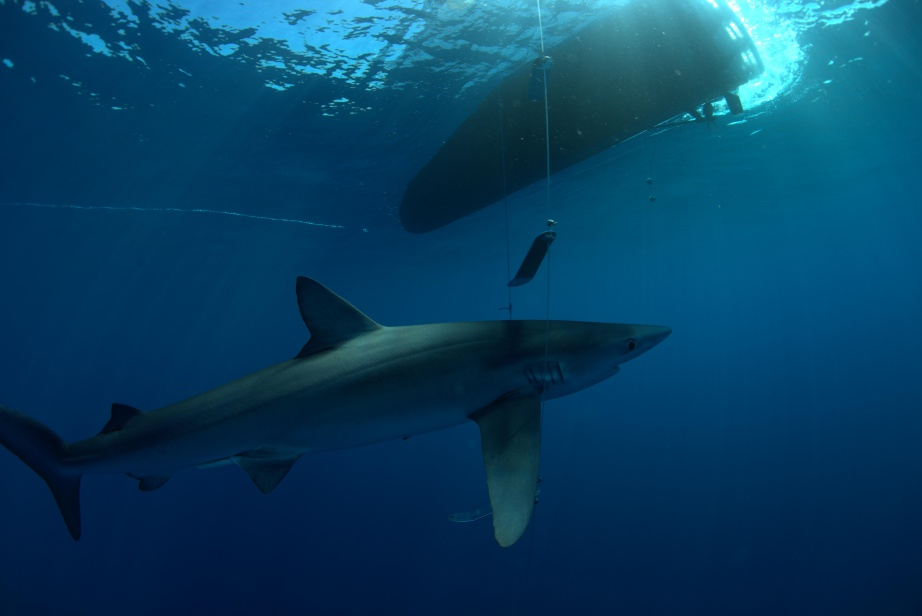Azul: (1, 266, 698, 562)
